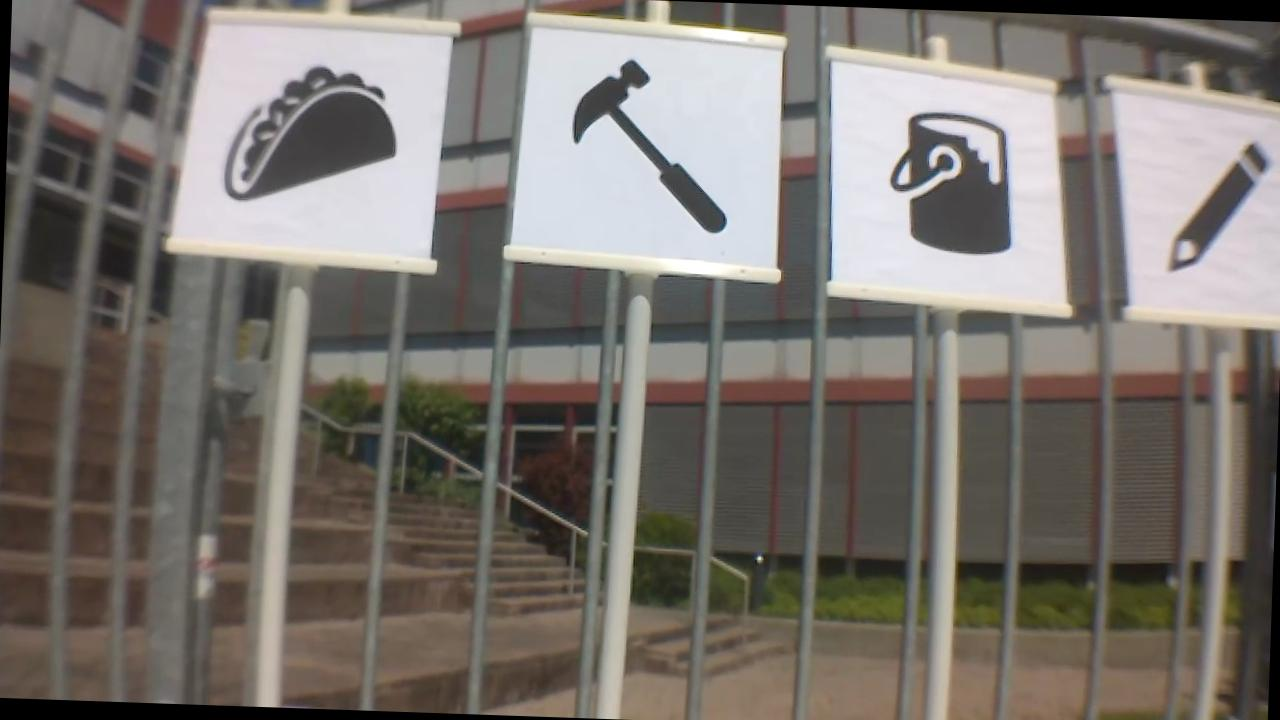bucket: (880, 102, 1020, 265)
hammer: (558, 49, 741, 232)
pencil: (1163, 136, 1280, 278)
taco: (211, 58, 410, 209)
